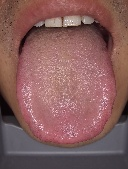tongue: (15, 44, 119, 146)
